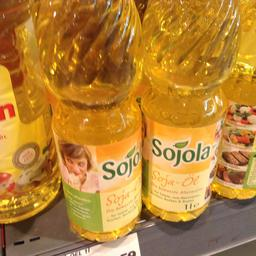oil: (32, 0, 145, 240), (140, 0, 238, 223)
